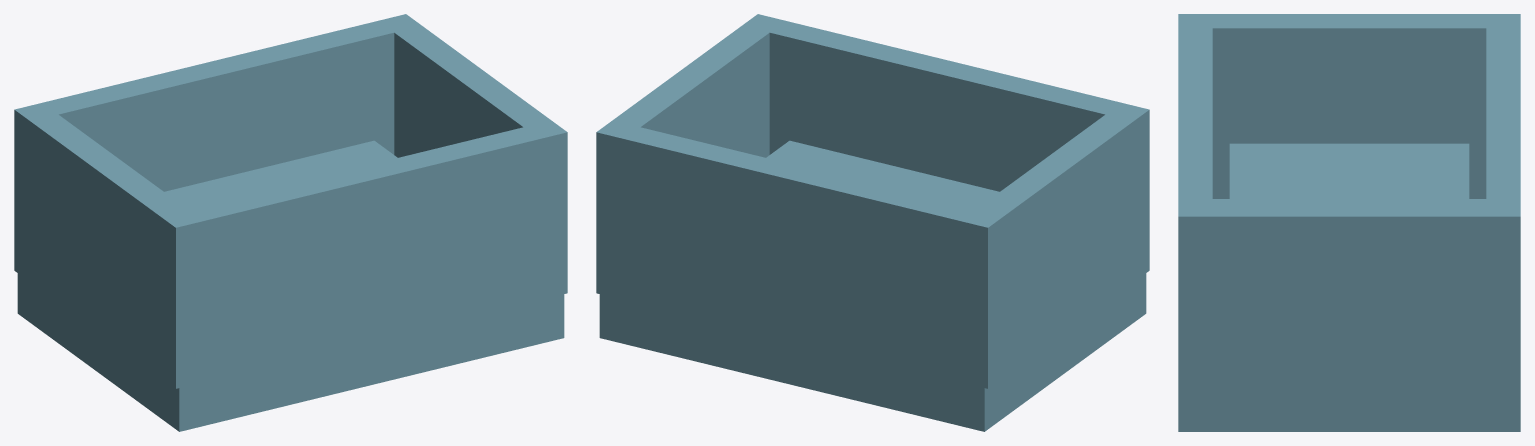
File: product_chilled_crate.glb
The picture shows the model from 3 angles, left to right: view 1: azimuth 30°, elevation 25°; view 2: azimuth 150°, elevation 25°; view 3: azimuth 270°, elevation 25°; orthographic projection. The views are drawn at different scales.
Parts seen in each view (by area): view 1: product.chilled_crate; view 2: product.chilled_crate; view 3: product.chilled_crate.
Part boxes in pixels (x1,y1,x2,y2): product.chilled_crate: [14, 14, 567, 431]; product.chilled_crate: [596, 14, 1149, 431]; product.chilled_crate: [1178, 14, 1520, 431].
Bounding box in the file's own units: 0.34 × 0.17 × 0.2429.
